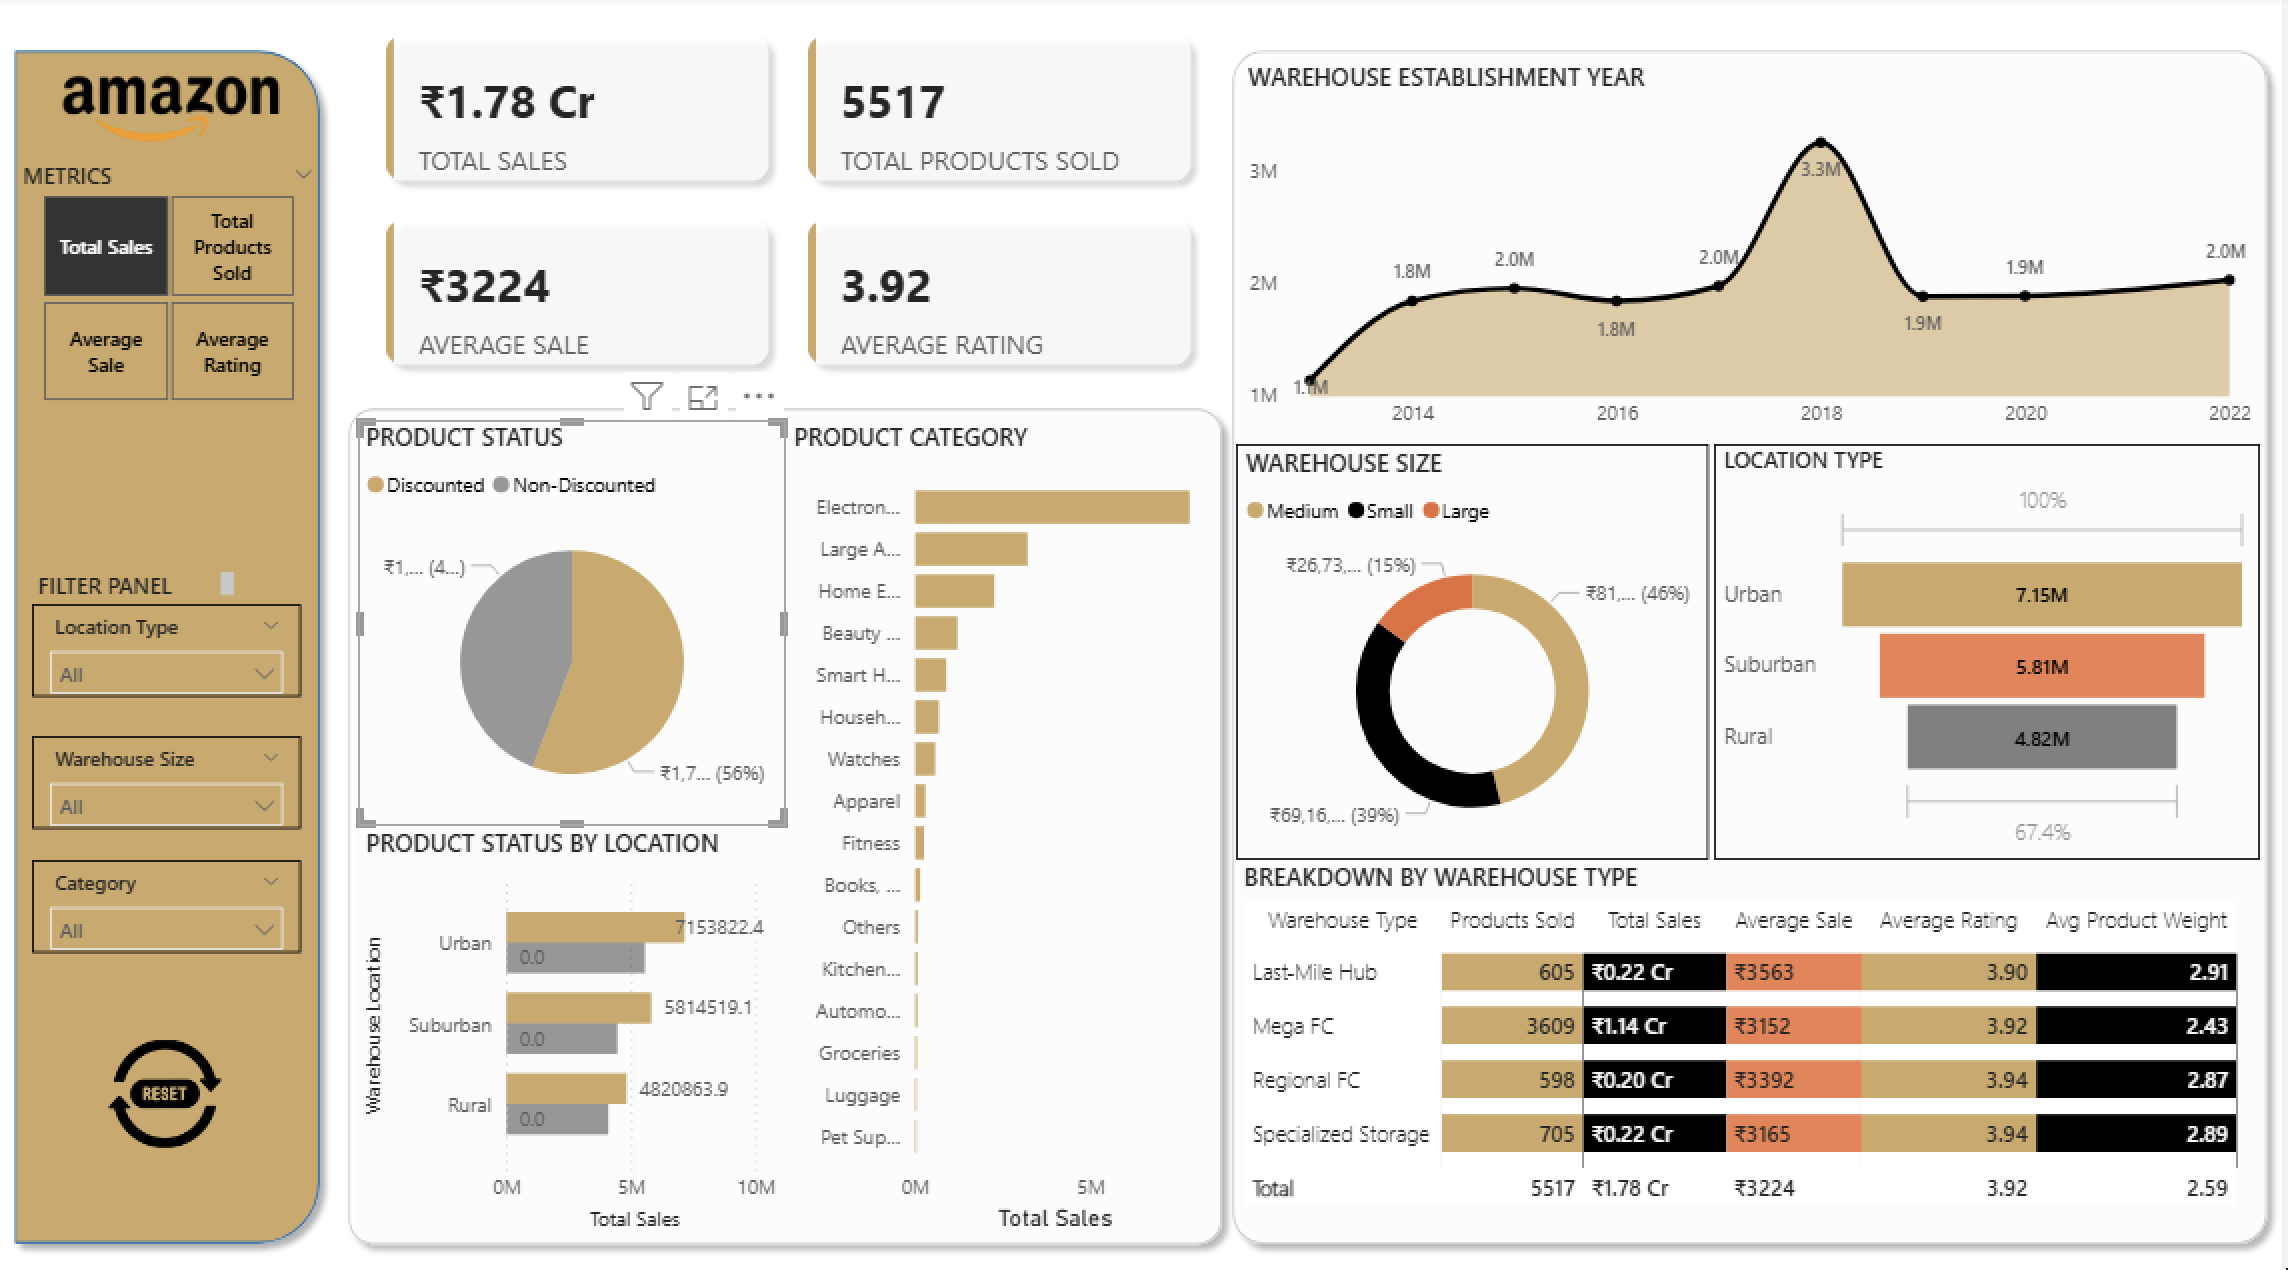

The page's visual inventory and layout, read from the dashboard file:
{"tool":"powerbi","page":{"name":"Page 1","canvas":[1400,800],"ordinal":0},"visuals":[{"type":"shape","box":[0,24.9,205,749.7],"z":0},{"type":"image","box":[0,39.6,205.1,58],"z":1000},{"type":"cardVisual","fields":{"Data":["Sheet 1 - FINAL FILE.Total Sales","Sheet 1 - FINAL FILE.Total Products Sold","Sheet 1 - FINAL FILE.Average Sale","Sheet 1 - FINAL FILE.Average Rating"]},"box":[219.3,6.8,528,236.9],"z":2000},{"type":"shape","box":[204.4,243.7,553.8,530.8],"z":3000},{"type":"pieChart","title":"PRODUCT STATUS","fields":{"Y":["Sheet 1 - FINAL FILE.Overall Sales"],"Category":["Sheet 1 - FINAL FILE.Product Status"]},"box":[219.3,260,262.7,249.1],"z":4000},{"type":"slicer","fields":{"Values":["Metrics.Metrics"]},"box":[1.4,97.5,203.1,158.4],"z":5000},{"type":"clusteredBarChart","title":"PRODUCT STATUS BY LOCATION","fields":{"Y":["Sheet 1 - FINAL FILE.Overall Sales"],"Category":["Sheet 1 - FINAL FILE.Warehouse Location"],"Series":["Sheet 1 - FINAL FILE.Product Status"]},"box":[219.3,509.1,262.7,253.2],"z":6000},{"type":"barChart","title":"PRODUCT CATEGORY","fields":{"Y":["Sheet 1 - FINAL FILE.Overall Sales"],"Category":["Sheet 1 - FINAL FILE.Category"]},"box":[482,260,265.4,502.3],"z":7000},{"type":"shape","box":[747.4,24.4,652.6,750.1],"z":8000},{"type":"lineChart","title":"WAREHOUSE ESTABLISHMENT YEAR","fields":{"Y":["Sheet 1 - FINAL FILE.Overall Sales"],"Category":["Sheet 1 - FINAL FILE.Warehouse Establishment Year"]},"box":[761,39.2,625,235.4],"z":9000},{"type":"donutChart","title":"WAREHOUSE SIZE","fields":{"Y":["Sheet 1 - FINAL FILE.Overall Sales"],"Category":["Sheet 1 - FINAL FILE.Warehouse Size"]},"box":[758.2,274.7,290.1,255.1],"z":10000},{"type":"funnel","title":"LOCATION TYPE","fields":{"Category":["Sheet 1 - FINAL FILE.Warehouse Location"],"Y":["Sheet 1 - FINAL FILE.Overall Sales"]},"box":[1051.1,274.7,334.9,255.1],"z":11000},{"type":"pivotTable","title":"BREAKDOWN BY WAREHOUSE TYPE","fields":{"Rows":["Sheet 1 - FINAL FILE.Warehouse Type"],"Values":["Sheet 1 - FINAL FILE.Products Sold","Sheet 1 - FINAL FILE.Total Sales","Sheet 1 - FINAL FILE.Average Sale","Sheet 1 - FINAL FILE.Average Rating","Avg(Sheet 1 - FINAL FILE.Product Weight)"]},"box":[758.2,529.7,626.4,232.6],"z":12000},{"type":"slicer","fields":{"Values":["Sheet 1 - FINAL FILE.Warehouse Location"]},"box":[19.6,372.8,165.4,57.5],"z":13000},{"type":"slicer","fields":{"Values":["Sheet 1 - FINAL FILE.Warehouse Size"]},"box":[19.6,454.1,165.4,57.5],"z":14000},{"type":"slicer","fields":{"Values":["Sheet 1 - FINAL FILE.Category"]},"box":[19.6,529.7,165.4,57.5],"z":15000},{"type":"textbox","box":[19,348,130,24.4],"z":16000},{"type":"image","box":[58.8,635.1,84.8,76.1],"z":17000}]}

Visuals, with their boxes in screenshot pixels (x1, y1, x2, y2), scaled from the page's 1400x800 canvas onto the 2288x1270 screenshot:
shape: [left=0, top=40, right=335, bottom=1230]
image: [left=0, top=63, right=335, bottom=155]
cardVisual - Sheet 1 - FINAL FILE.Total Sales x Sheet 1 - FINAL FILE.Total Products Sold: [left=358, top=11, right=1221, bottom=387]
shape: [left=334, top=387, right=1239, bottom=1230]
"PRODUCT STATUS" pieChart: [left=358, top=413, right=788, bottom=808]
slicer - Metrics.Metrics: [left=2, top=155, right=334, bottom=406]
"PRODUCT STATUS BY LOCATION" clusteredBarChart: [left=358, top=808, right=788, bottom=1210]
"PRODUCT CATEGORY" barChart: [left=788, top=413, right=1221, bottom=1210]
shape: [left=1221, top=39, right=2287, bottom=1230]
"WAREHOUSE ESTABLISHMENT YEAR" lineChart: [left=1244, top=62, right=2265, bottom=436]
"WAREHOUSE SIZE" donutChart: [left=1239, top=436, right=1713, bottom=841]
"LOCATION TYPE" funnel: [left=1718, top=436, right=2265, bottom=841]
"BREAKDOWN BY WAREHOUSE TYPE" pivotTable: [left=1239, top=841, right=2263, bottom=1210]
slicer - Sheet 1 - FINAL FILE.Warehouse Location: [left=32, top=592, right=302, bottom=683]
slicer - Sheet 1 - FINAL FILE.Warehouse Size: [left=32, top=721, right=302, bottom=812]
slicer - Sheet 1 - FINAL FILE.Category: [left=32, top=841, right=302, bottom=932]
textbox: [left=31, top=552, right=244, bottom=591]
image: [left=96, top=1008, right=235, bottom=1129]
